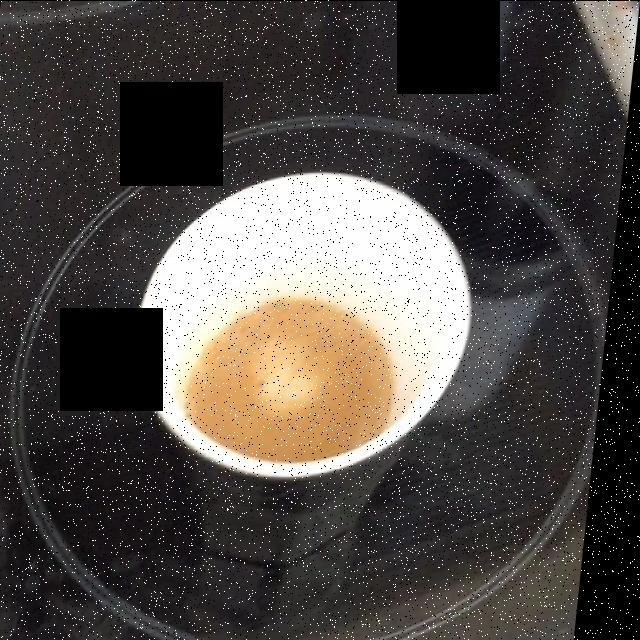espresso: (190, 301, 410, 458)
